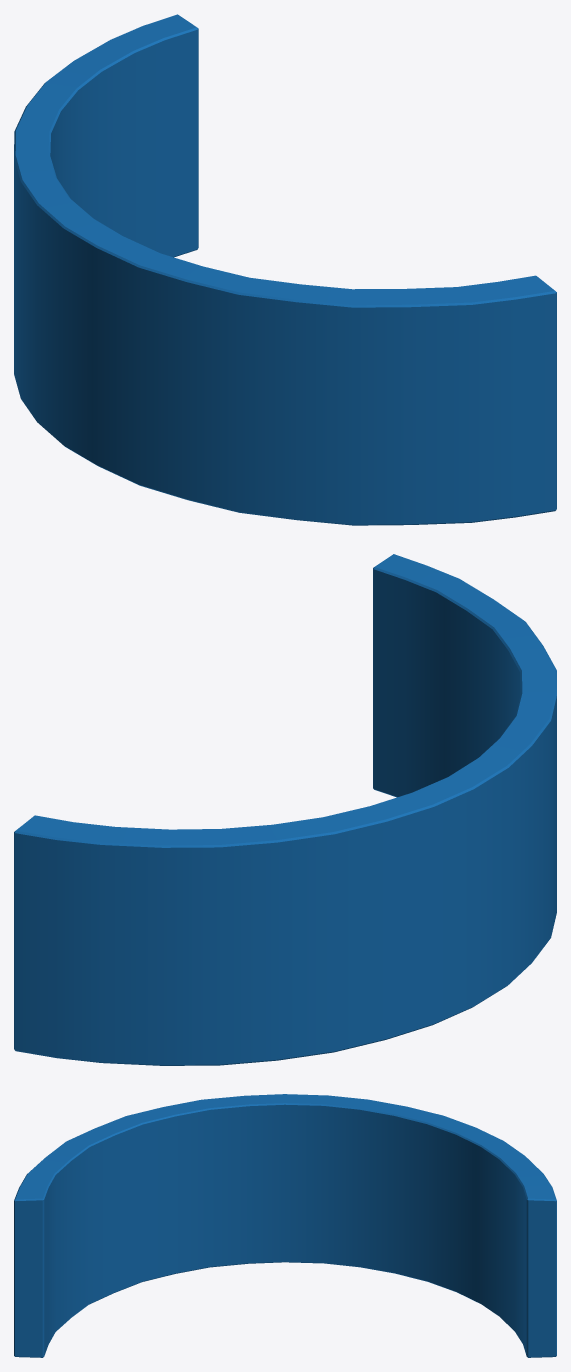
Rendered from Edge_Turn_180_01.fbx.
3 views of the same model, one above another, from view 1: azimuth 30°, elevation 25°; view 2: azimuth 150°, elevation 25°; view 3: azimuth 270°, elevation 25° (orthographic). The views are drawn at different scales.
Visible parts, largest first — view 1: Edge_Turn_180_01; view 2: Edge_Turn_180_01; view 3: Edge_Turn_180_01.
Boxes of the visible parts, x1,y1,x2,y2 form: Edge_Turn_180_01: (14,14,556,525); Edge_Turn_180_01: (14,554,556,1065); Edge_Turn_180_01: (14,1094,556,1357).
Bounding box in the file's own units: 4.2 × 2.93 × 9.06.
